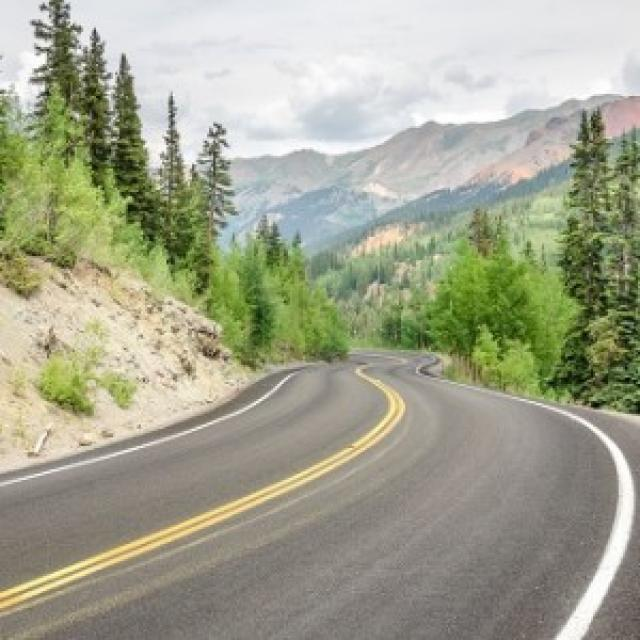Clean road: (0, 386, 640, 640)
